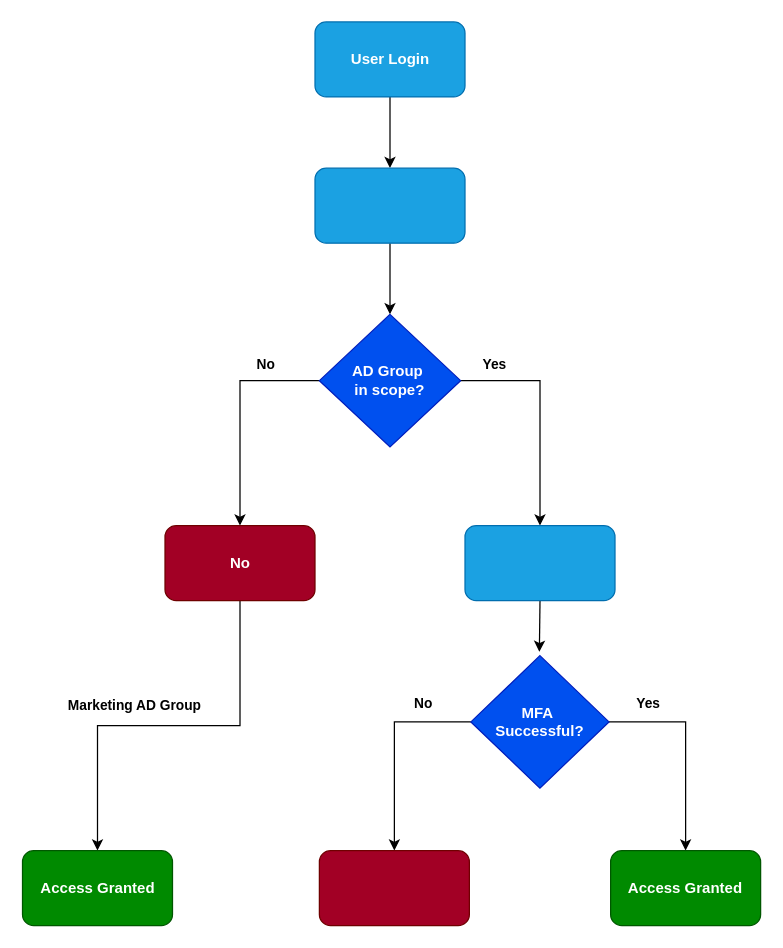
The diagram is 783 pixels wide and 948 high, and some of its shapes have lost their labels. Each missing label, with the centre of its shape:
Access Denied: [393,887]
Conditional Access Authentication: [389,205]
Require MFA: [539,562]
